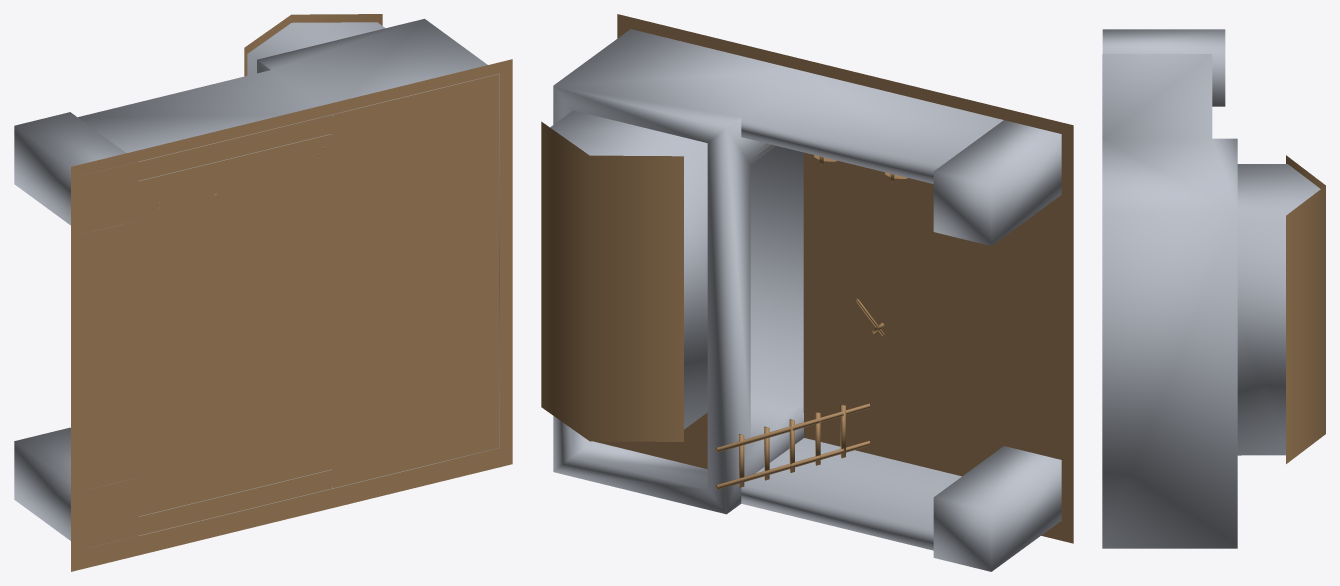
The model's file is Barracks.fbx.
3 renders of one model, left to right at view 1: azimuth 30°, elevation 25°; view 2: azimuth 150°, elevation 25°; view 3: azimuth 270°, elevation 25°, orthographic. The views are drawn at different scales.
Visible parts, largest first — view 1: Barracks; view 2: Barracks; view 3: Barracks.
Boxes of the visible parts, bbox=[...] form: Barracks: bbox=[14, 14, 512, 571]; Barracks: bbox=[541, 14, 1073, 571]; Barracks: bbox=[1102, 29, 1325, 548].
Bounding box in the file's own units: 7.22 × 6.32 × 3.52.
